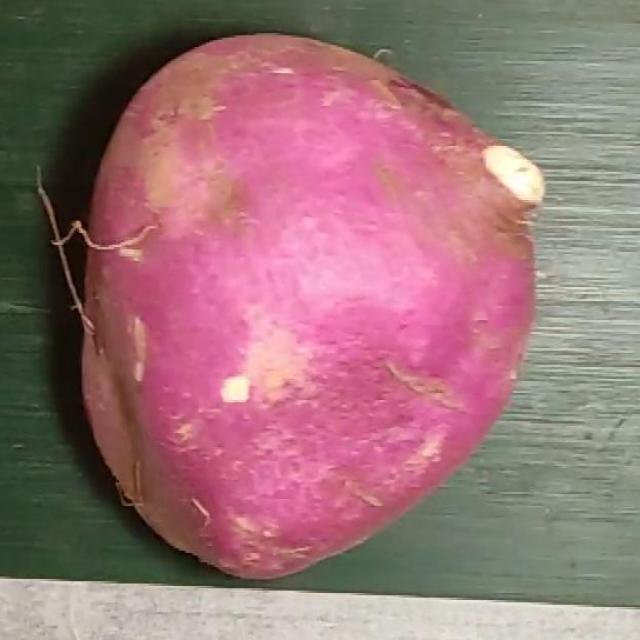Sweet Potato: (81, 32, 546, 584)
